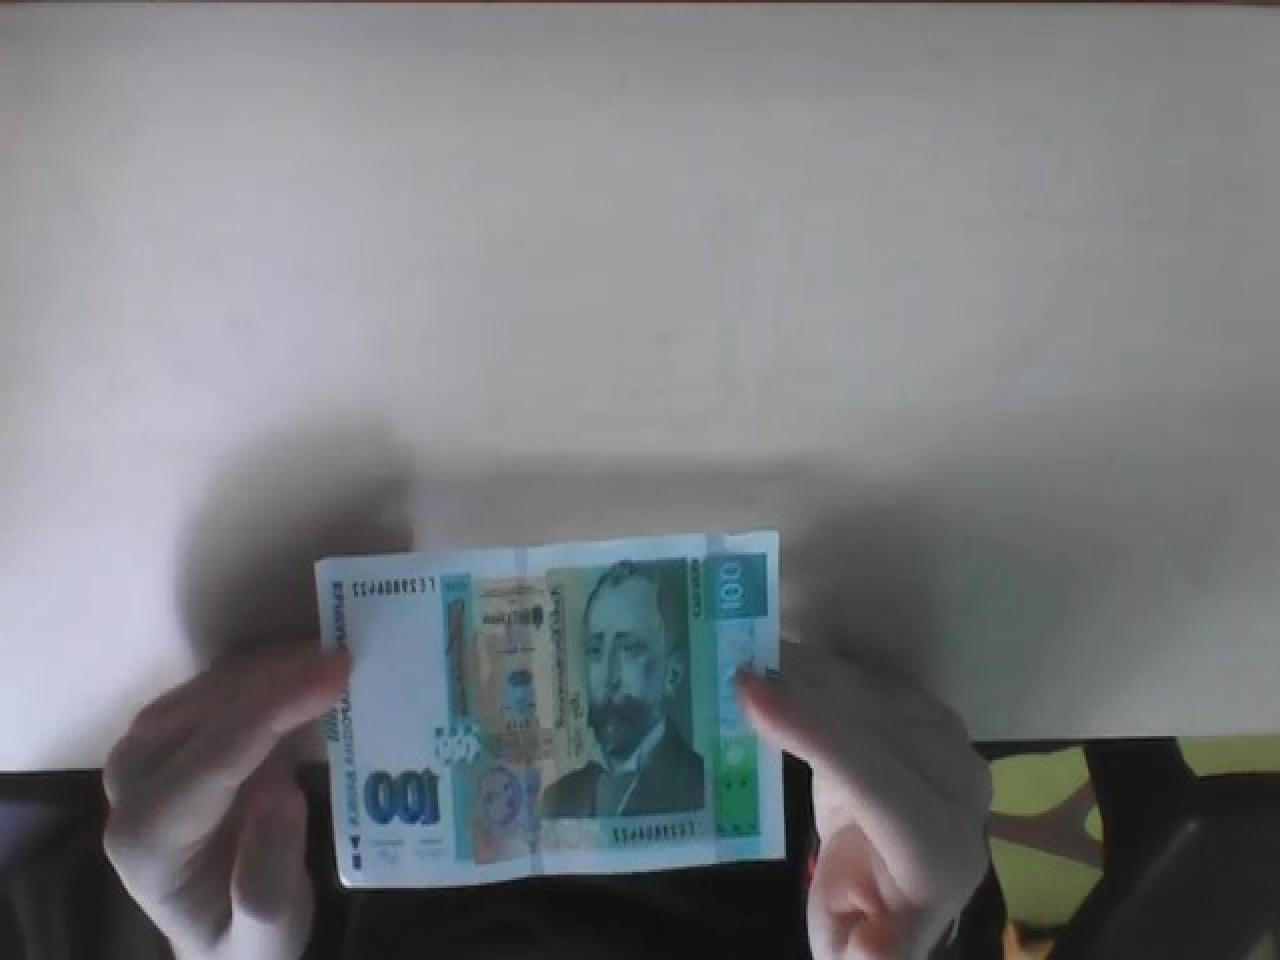100leva: (312, 527, 786, 893)
